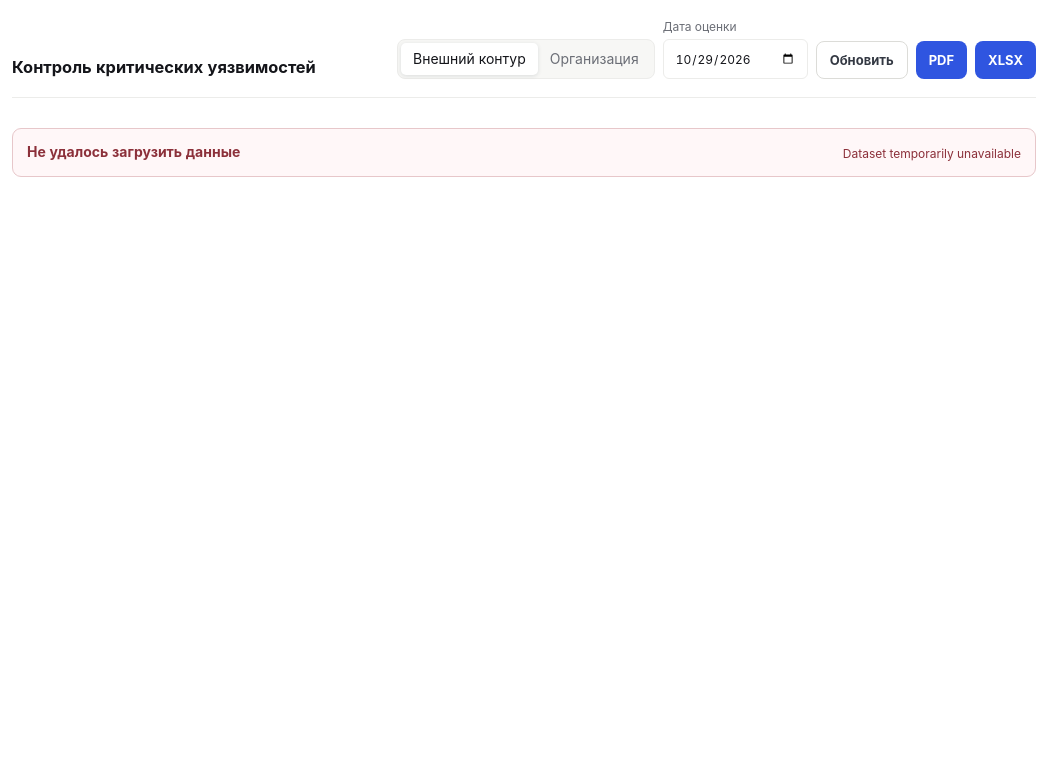
Scenario: compliance dashboard and report downloads › exposes summary errors and recovers on refresh
The width and height of the screenshot is (1048, 768).
Expected: the message shows "Dataset temporarily unavailable", [843,146,1021,161]
Click the button "Обновить".
click(862, 60)  # box [816,41,908,79]
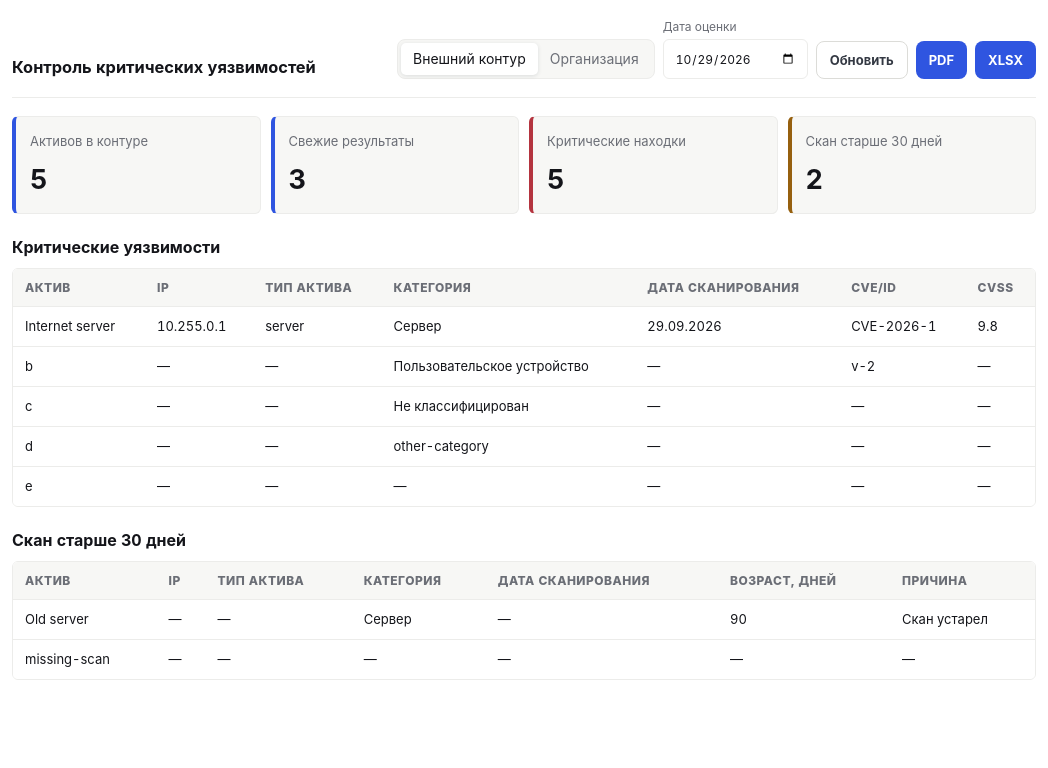
Now the text "Internet server" is shown, box [13,307,145,347]
Now the message "Не удалось загрузить данные Dataset temporarily unavailable" is gone
